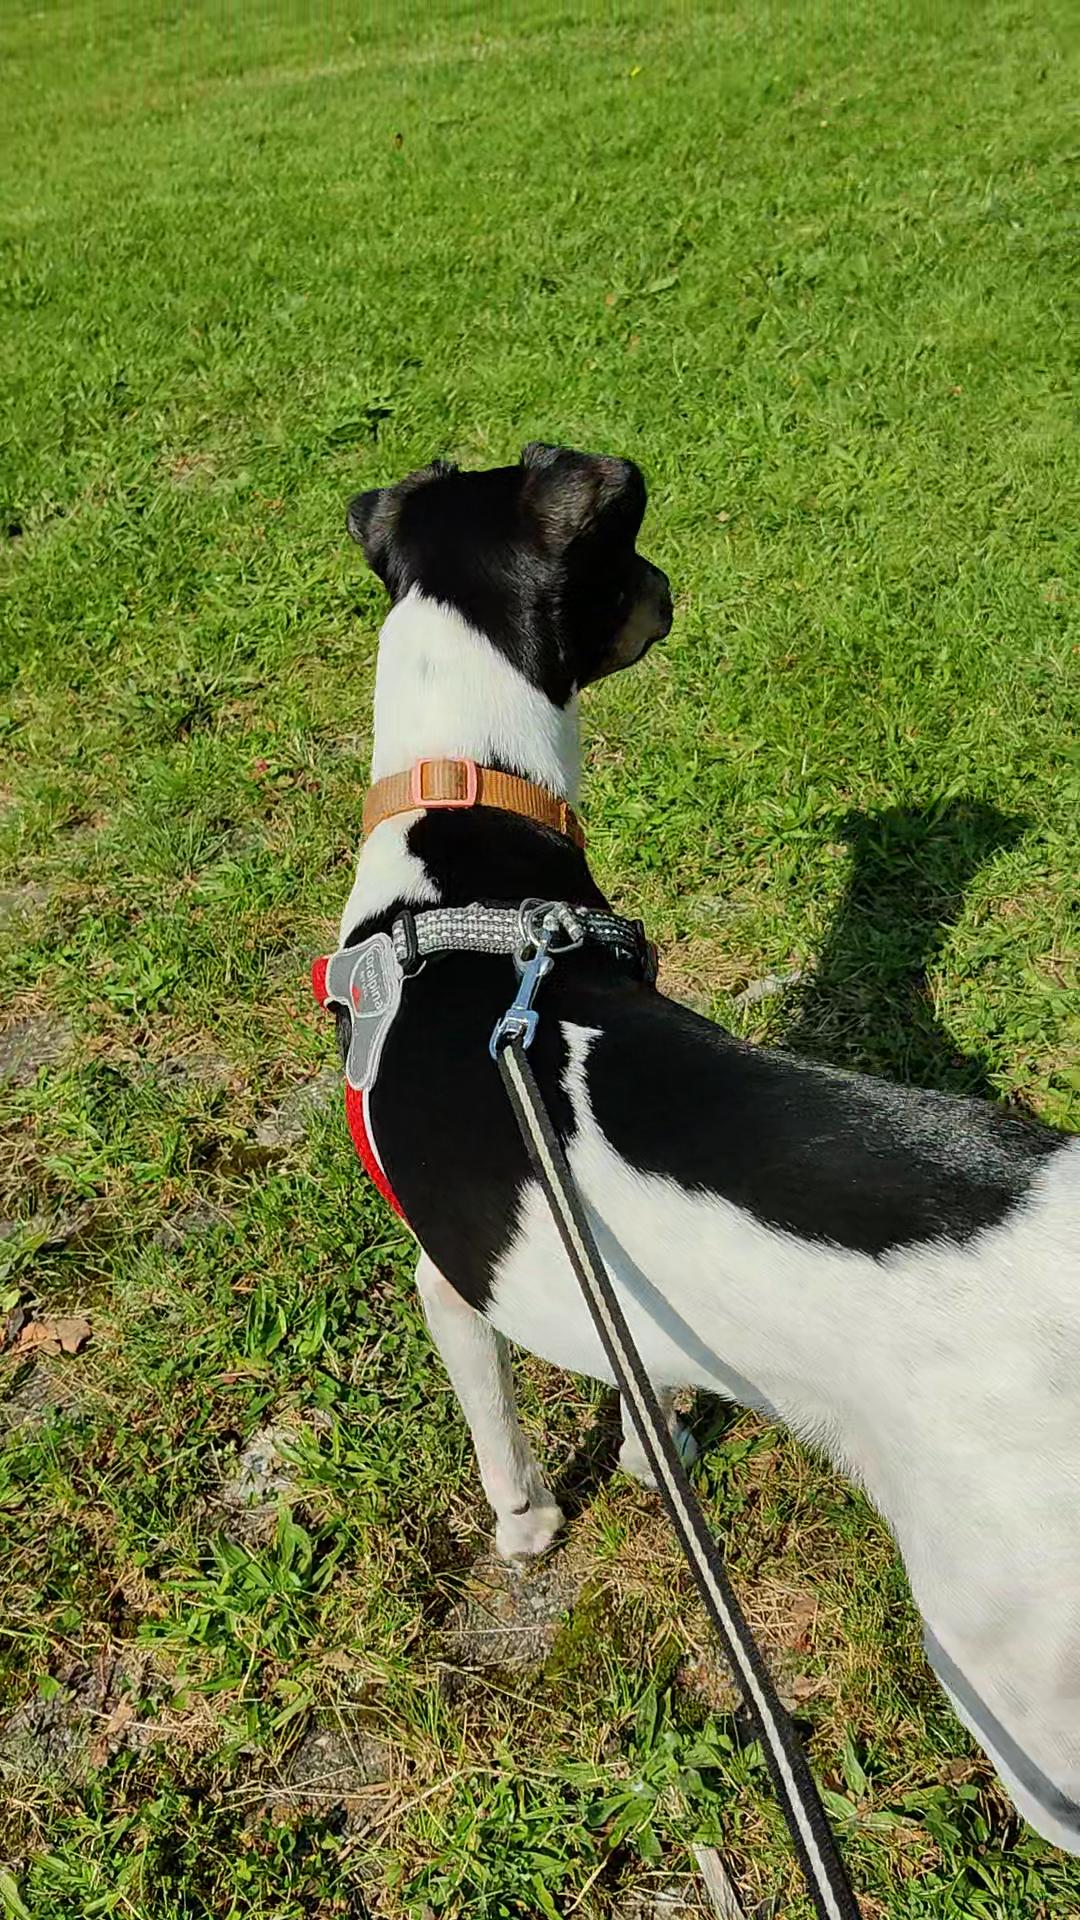Dog: (319, 436, 1079, 1851)
